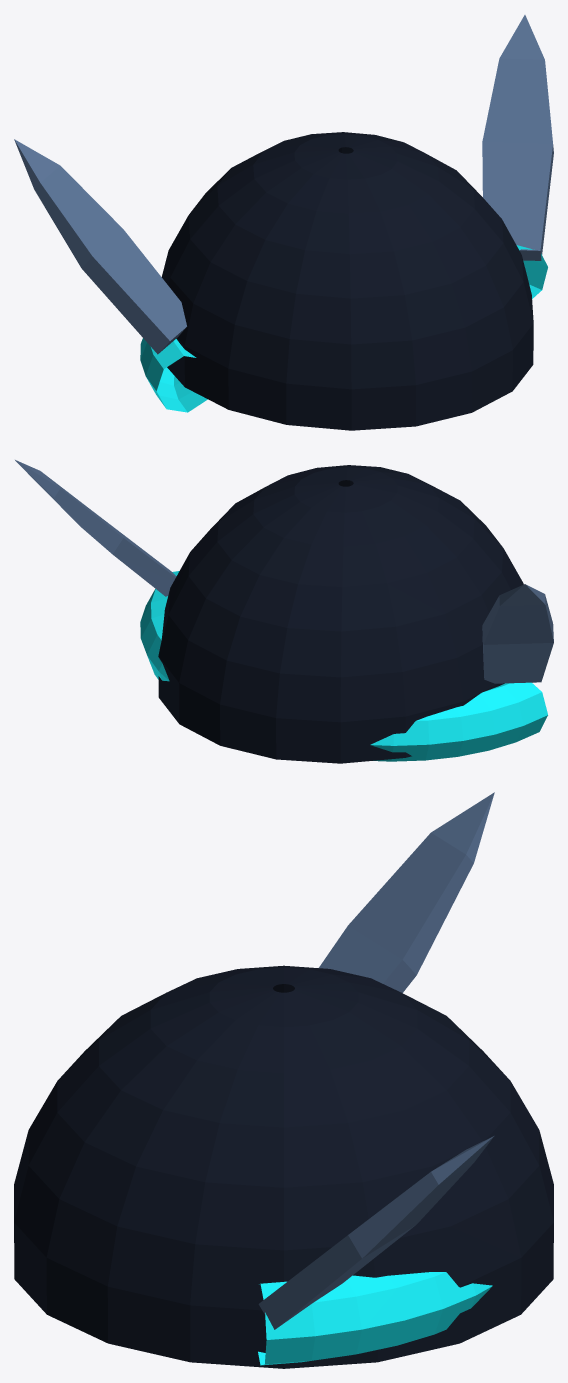
Rendered from Skin_CyberHelmet.obj.
3 views of the same model, one above another, from view 1: azimuth 30°, elevation 25°; view 2: azimuth 150°, elevation 25°; view 3: azimuth 270°, elevation 25° (orthographic). The views are drawn at different scales.
Parts seen in each view (by area): view 1: Skin_CyberHelmet_BaseArmor, Skin_CyberHelmet_TrimMetal, Skin_CyberHelmet_EmissiveCore; view 2: Skin_CyberHelmet_BaseArmor, Skin_CyberHelmet_TrimMetal, Skin_CyberHelmet_EmissiveCore; view 3: Skin_CyberHelmet_BaseArmor, Skin_CyberHelmet_TrimMetal, Skin_CyberHelmet_EmissiveCore.
Boxes of the visible parts, x1,y1,x2,y2 form: Skin_CyberHelmet_BaseArmor: (162, 132, 533, 430); Skin_CyberHelmet_TrimMetal: (14, 15, 553, 354); Skin_CyberHelmet_EmissiveCore: (140, 245, 547, 412); Skin_CyberHelmet_BaseArmor: (158, 465, 523, 763); Skin_CyberHelmet_TrimMetal: (15, 460, 553, 683); Skin_CyberHelmet_EmissiveCore: (140, 571, 547, 761); Skin_CyberHelmet_BaseArmor: (14, 965, 553, 1368); Skin_CyberHelmet_TrimMetal: (258, 792, 494, 1329); Skin_CyberHelmet_EmissiveCore: (258, 1272, 492, 1365).
Size of the model in its own units: 0.3714 by 0.1618 by 0.2466.
